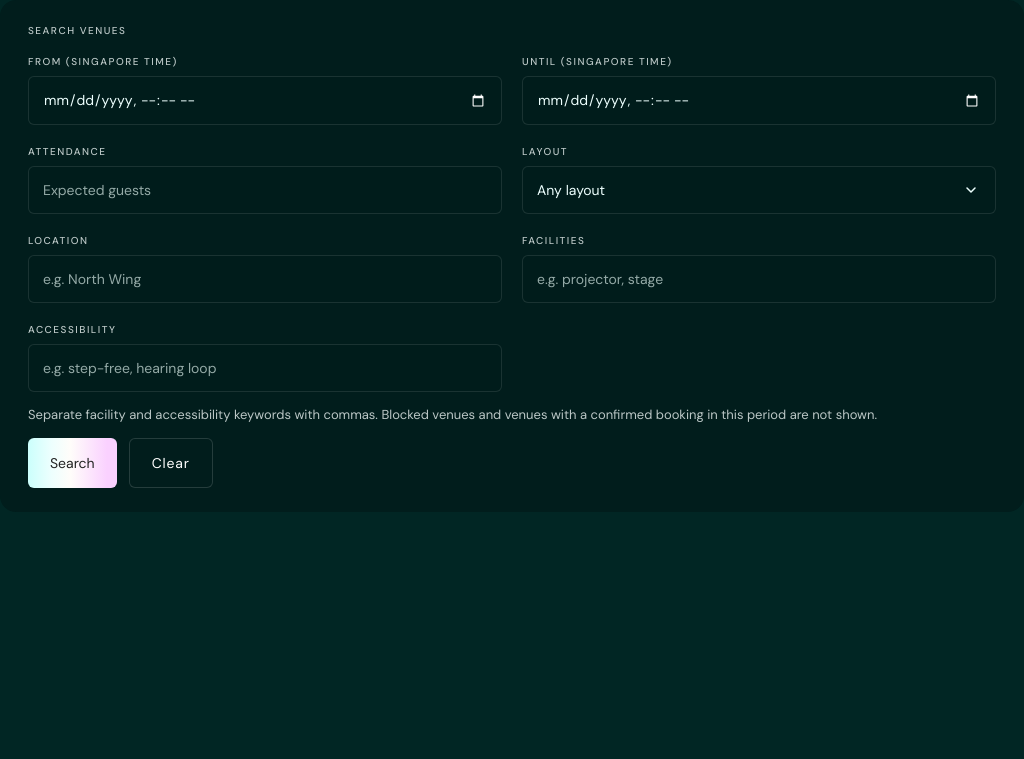
Test: [BOUNDARY] [SG2-46:AC2] a single match is counted in the singular
Type "2030-06-15T09:00" into the field labelled "From (Singapore time)" at (265, 100), box [28,76,502,125]
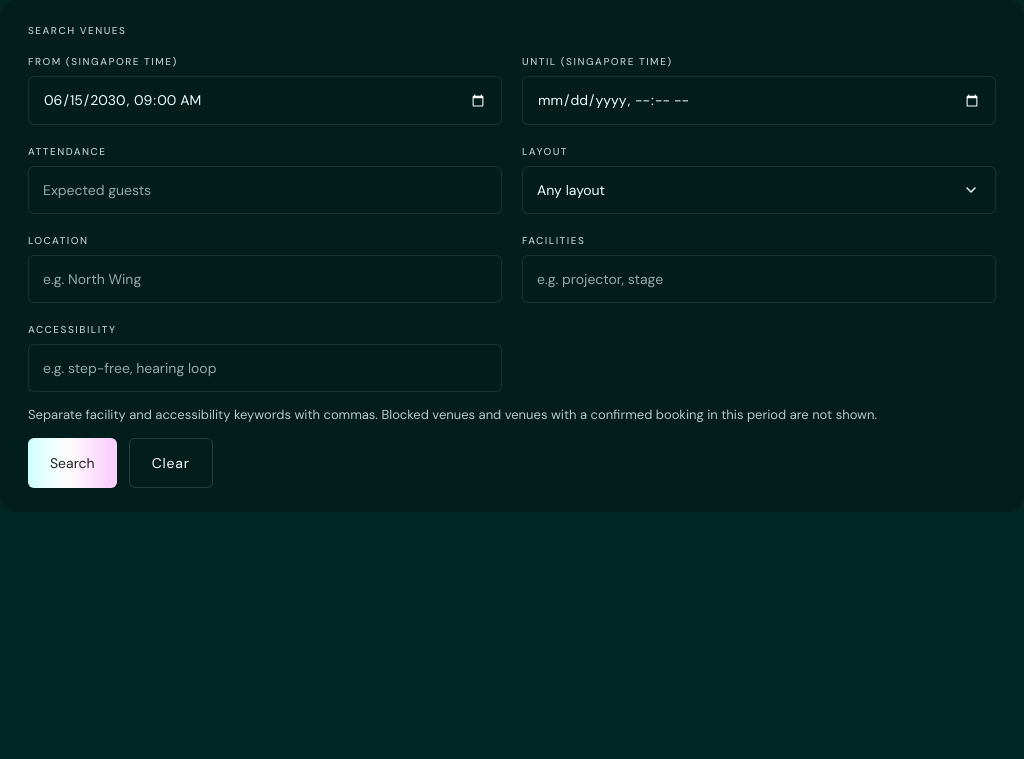
Type "2030-06-15T17:00" into the field labelled "Until (Singapore time)" at (759, 100), box [522,76,996,125]
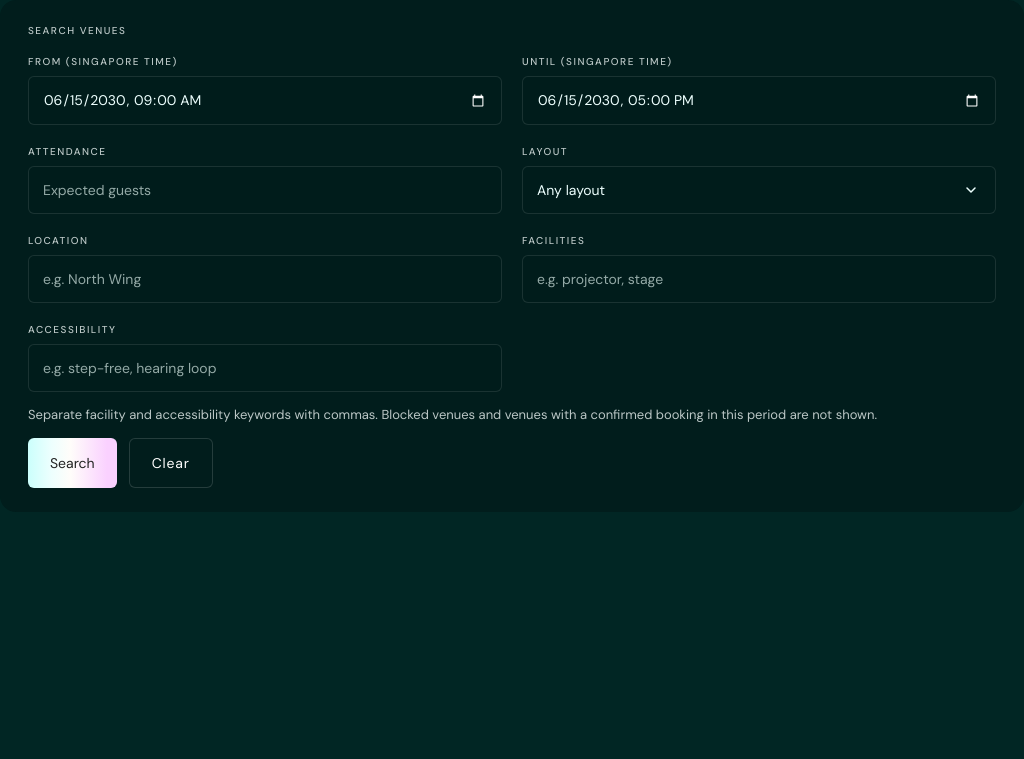
Submit the form named "Venue search criteria", box [28,55,996,488]
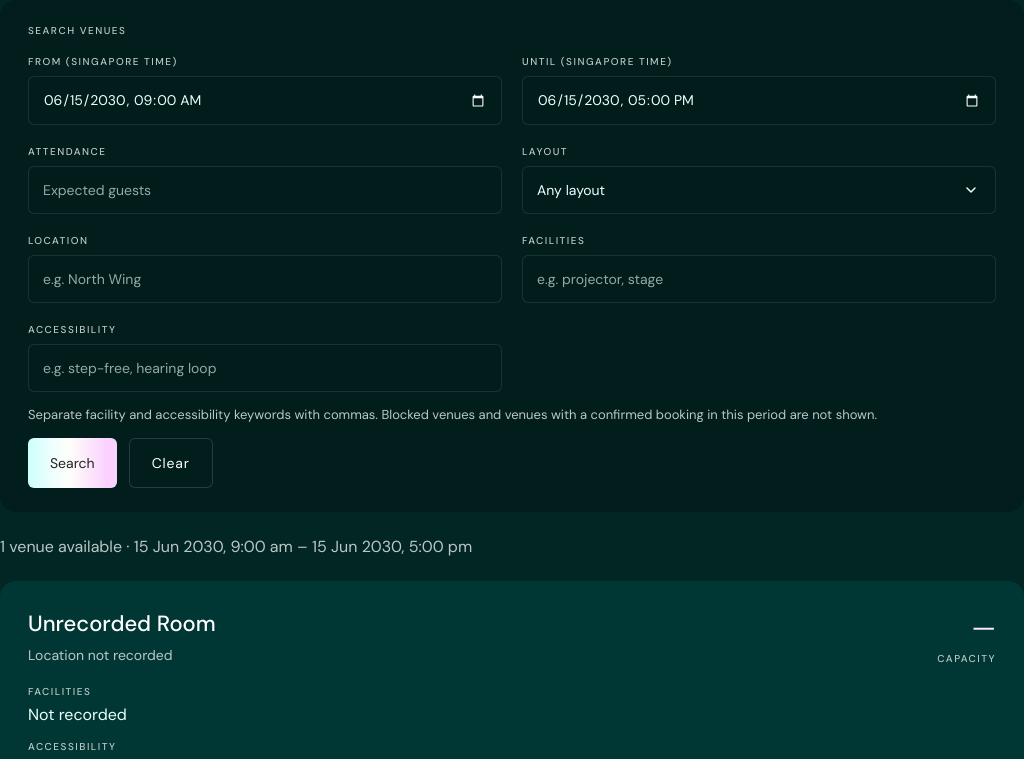
expect the text "1 venue available · 15 Jun 2030, 9:00 am – 15 Jun 2030, 5:00 pm" is shown: met, box [0,536,472,556]
